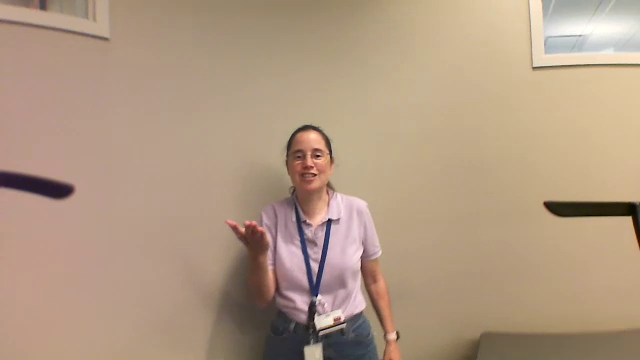land: (215, 210, 277, 252)
